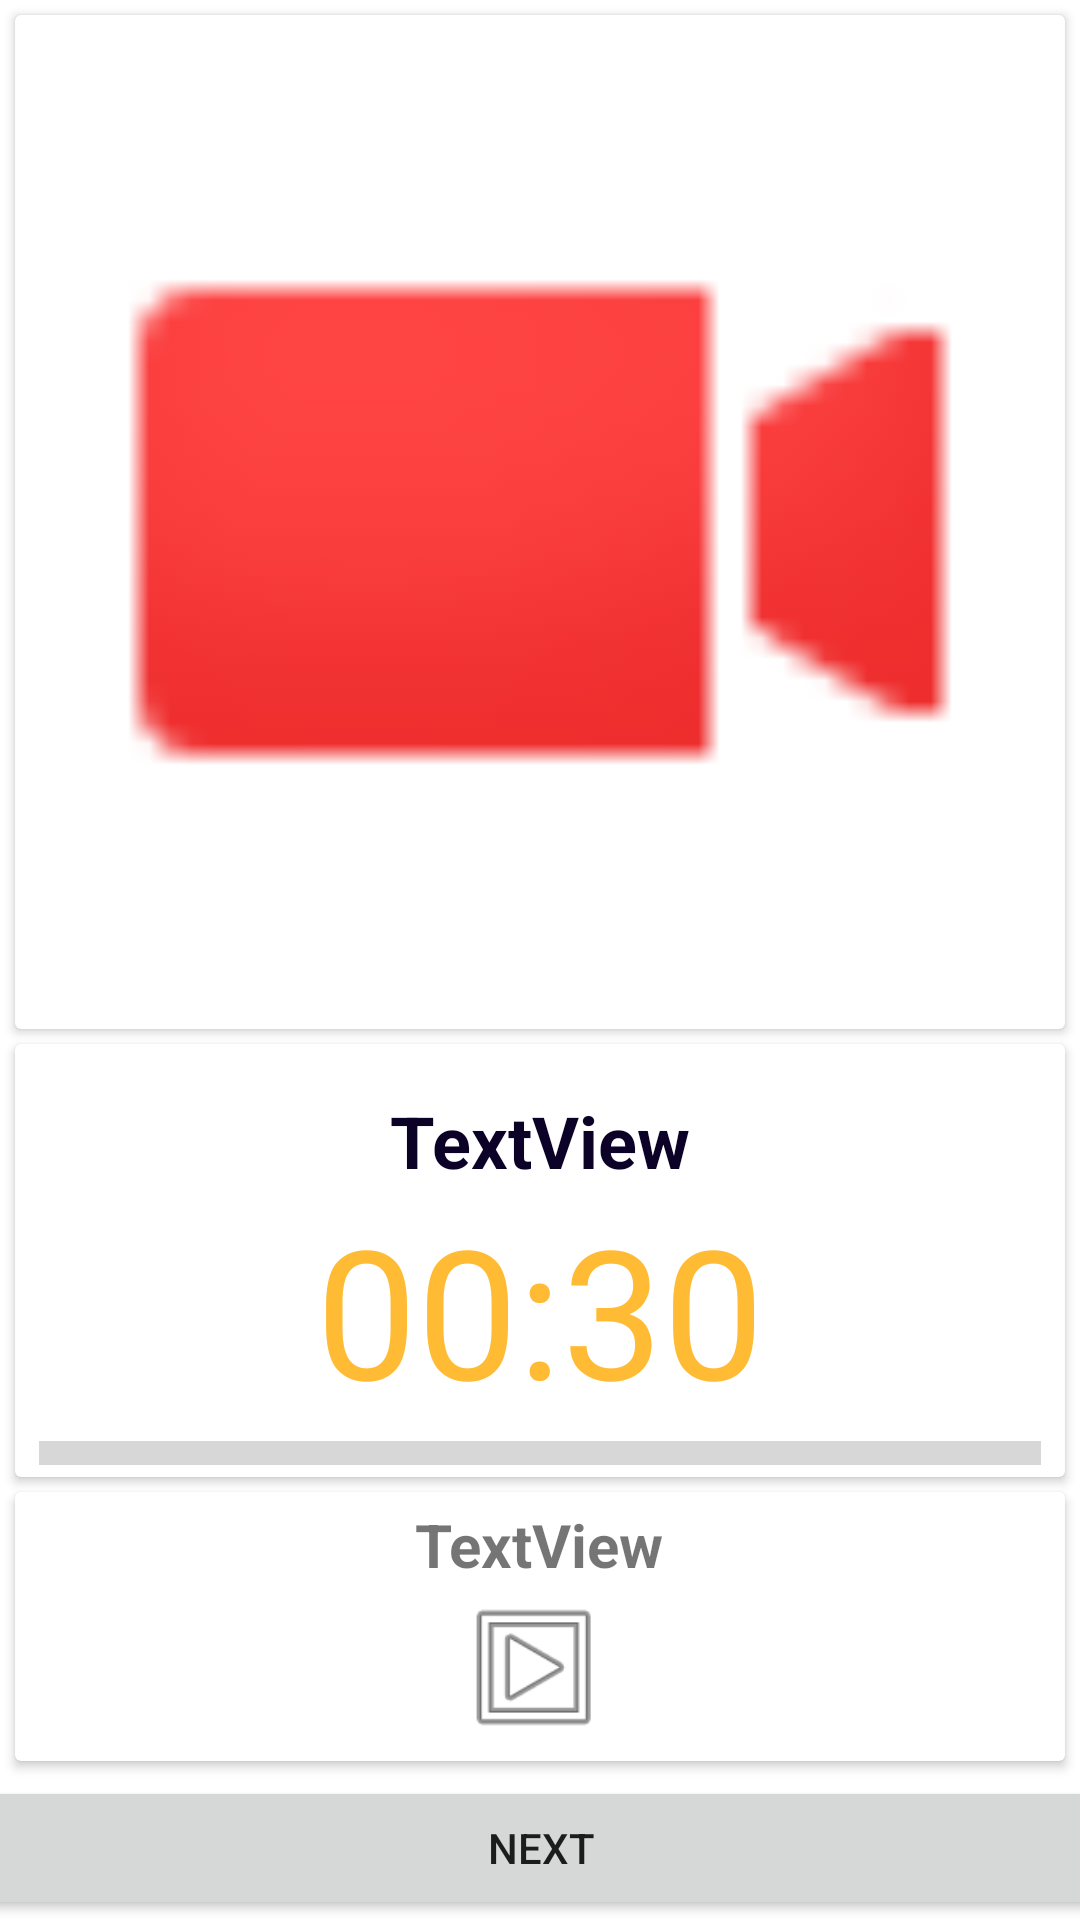

Where to tap for icons on this 1080 x 1920 app screen, as [x,y]:
slideshow: [533,1667]
